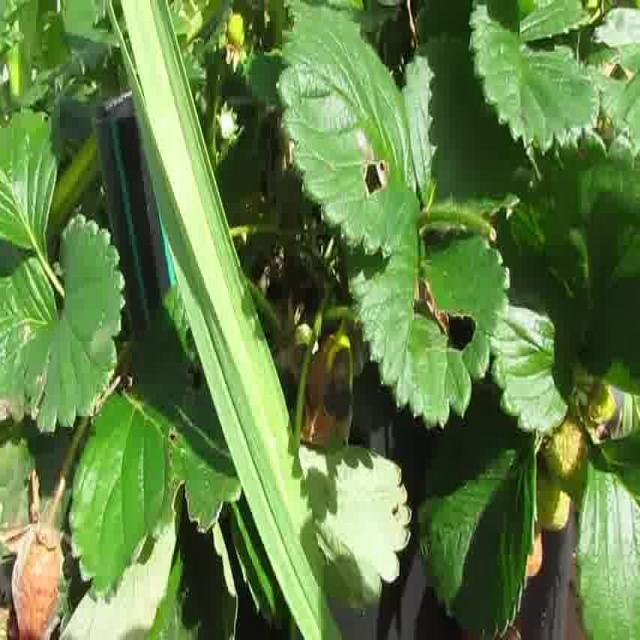Fruta sana: (546, 415, 591, 494), (504, 497, 544, 577), (528, 471, 572, 533), (584, 380, 618, 424)
Moho gris: (10, 521, 70, 640)
